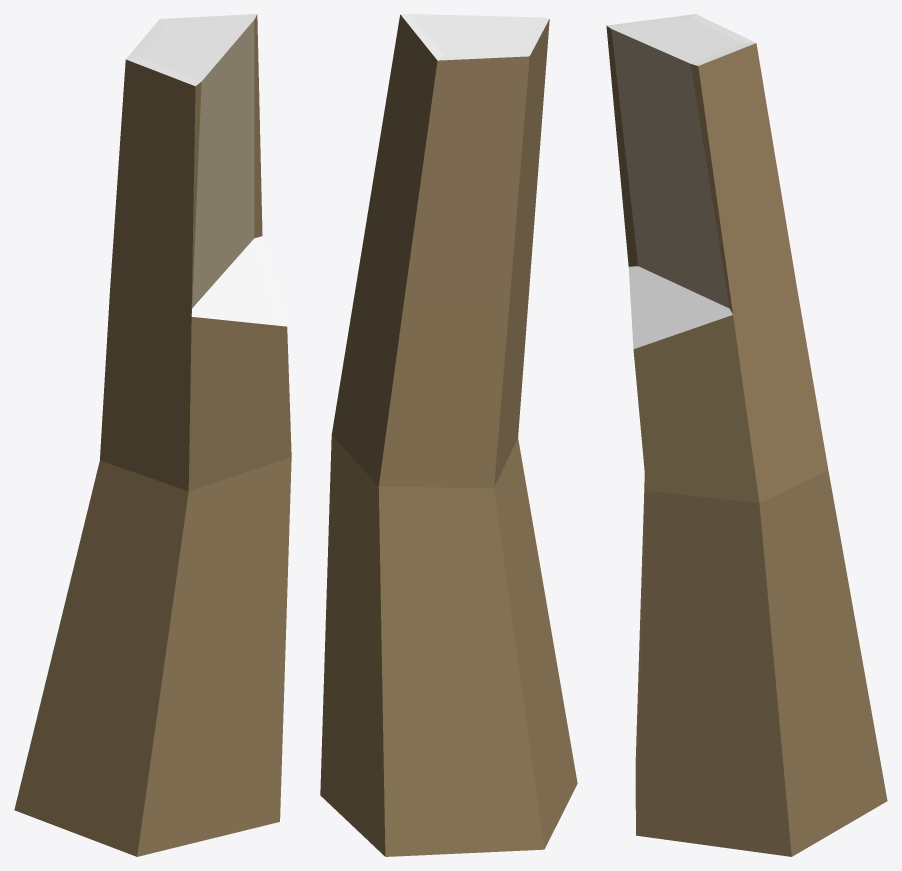
The model's file is Apple_Stump_Snow_01.fbx.
3 views of the same model, side by side, from view 1: azimuth 30°, elevation 25°; view 2: azimuth 150°, elevation 25°; view 3: azimuth 270°, elevation 25° (orthographic). The views are drawn at different scales.
Visible parts, largest first — view 1: Apple_Stump_Snow_01; view 2: Apple_Stump_Snow_01; view 3: Apple_Stump_Snow_01.
Boxes of the visible parts, x1,y1,x2,y2 form: Apple_Stump_Snow_01: [14, 14, 291, 856]; Apple_Stump_Snow_01: [320, 14, 577, 856]; Apple_Stump_Snow_01: [606, 14, 887, 856].
Bounding box in the file's own units: 44.49 × 141 × 46.39.
